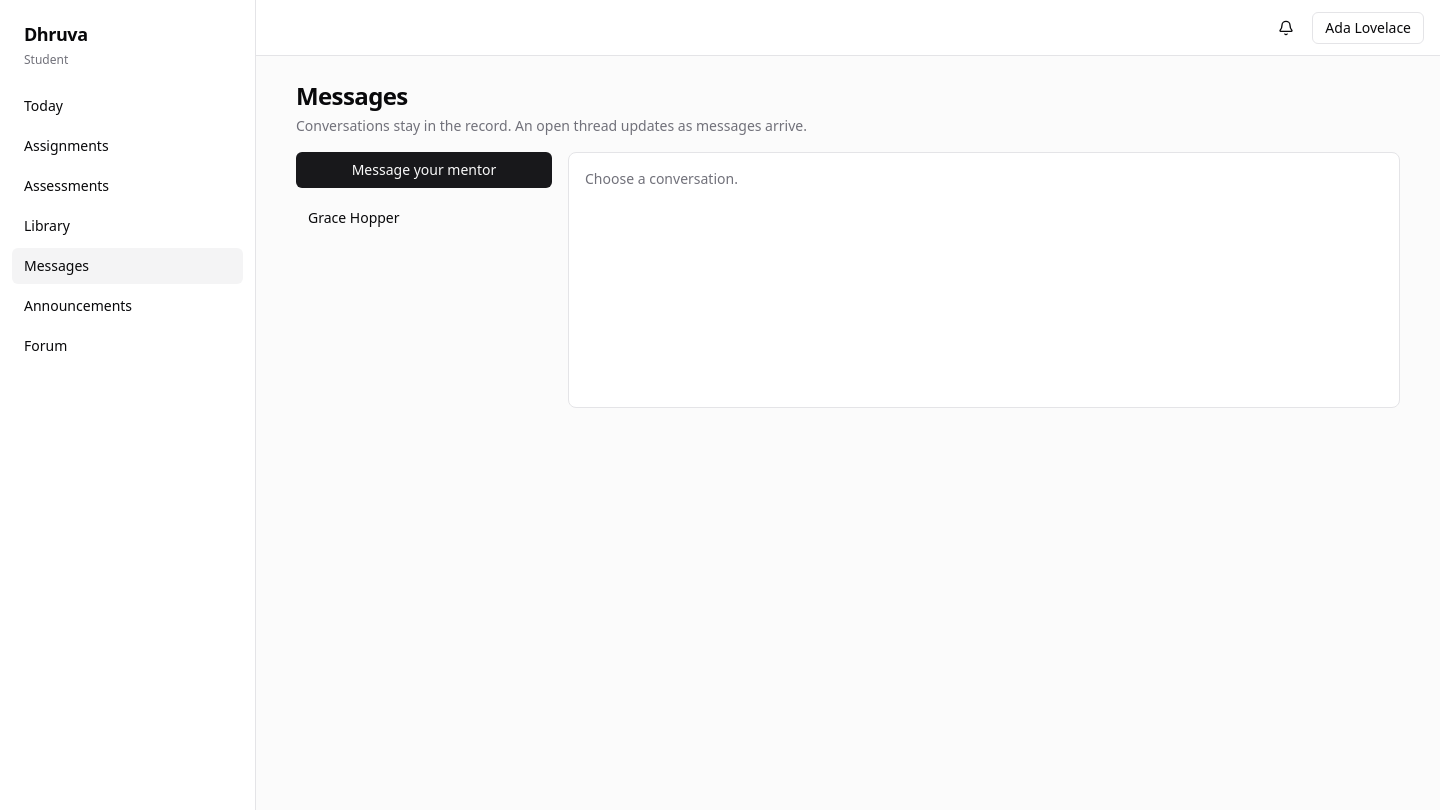
Test: messages › opens the mentor conversation and sends a message
Expected: the heading "Messages" is shown, [296,79,408,112]
Click the button "Grace Hopper" at (424, 218), box [296,200,552,236]
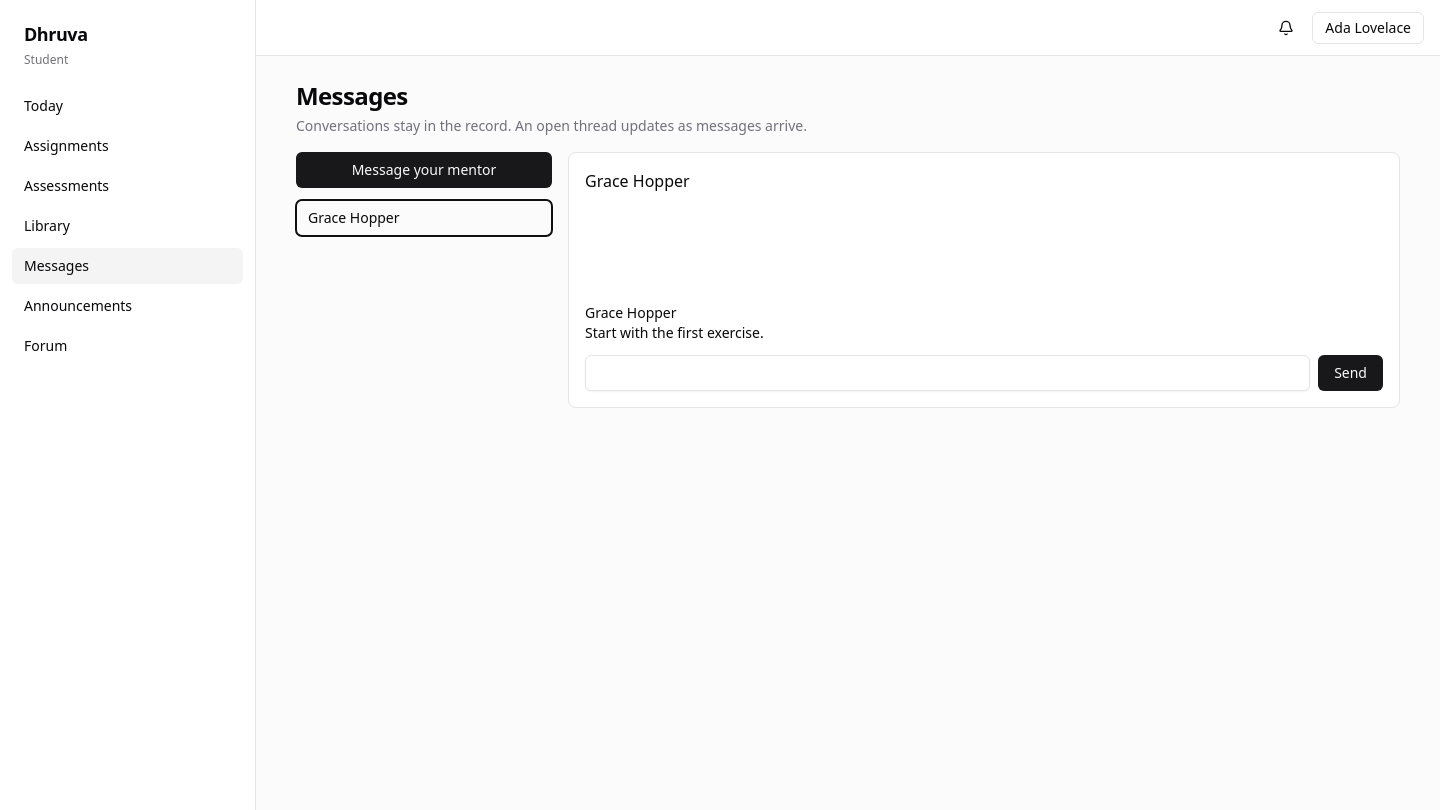
Now the text "Start with the first exercise." is shown, box [585,323,764,342]
Type "hello mentor" into the field named "Message" at (948, 373), box [585,355,1310,391]
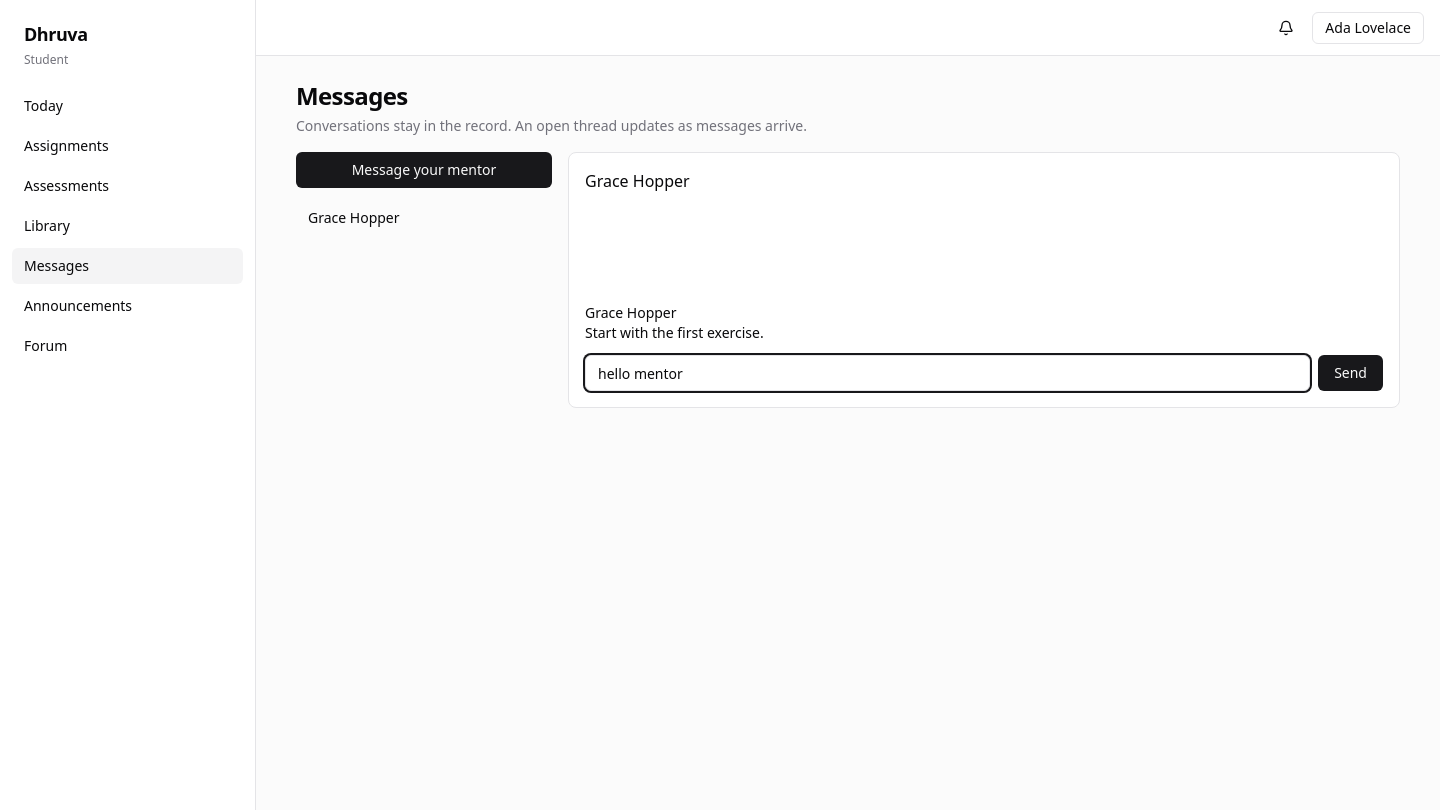
Click the button "Send" at (1351, 373), box [1318,355,1383,391]
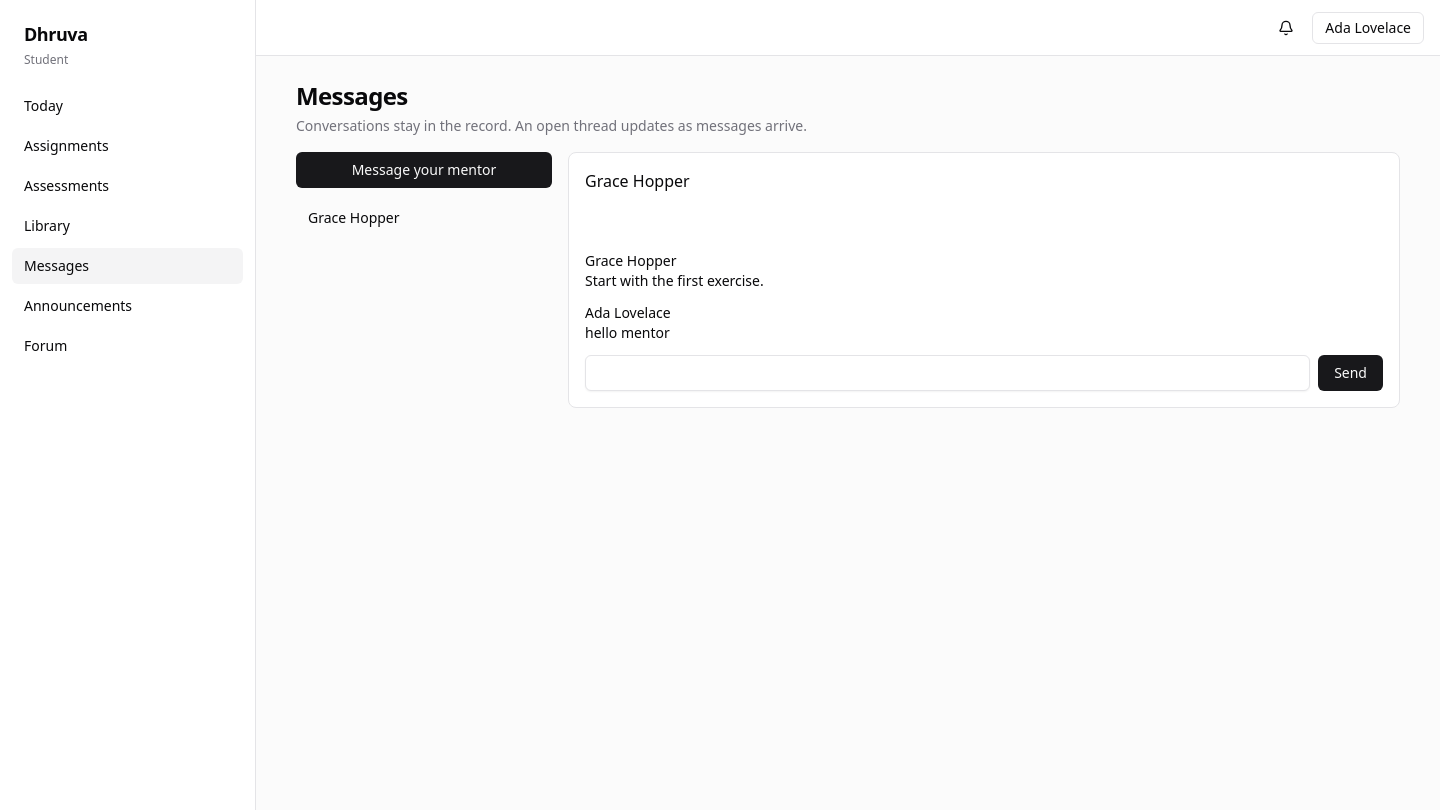
Now the text "hello mentor" is shown, box [585,323,670,342]
